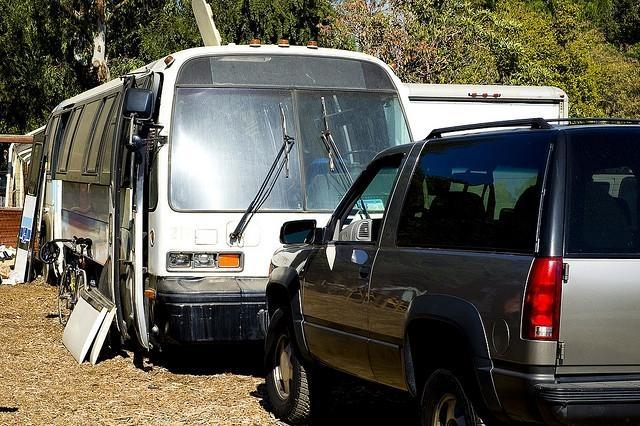bicycle: (59, 237, 92, 322)
bus: (29, 38, 409, 371)
truck: (259, 116, 640, 419), (402, 83, 570, 132)
